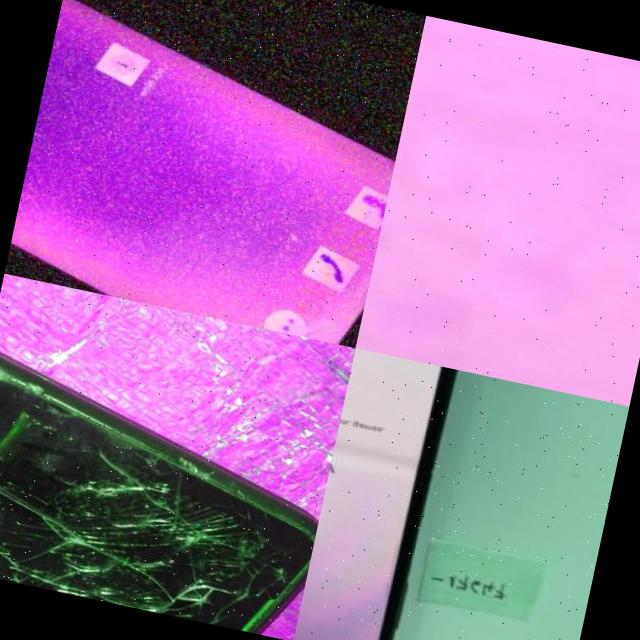screen crack: (0, 379, 328, 640)
